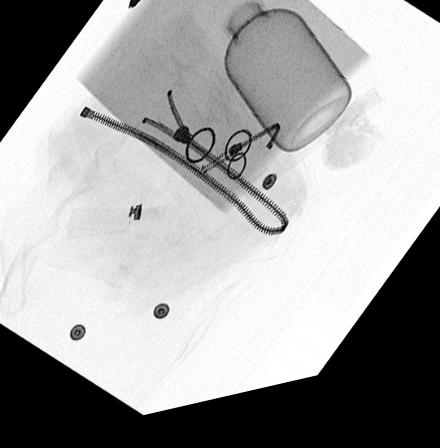Gun: (127, 0, 147, 15)
